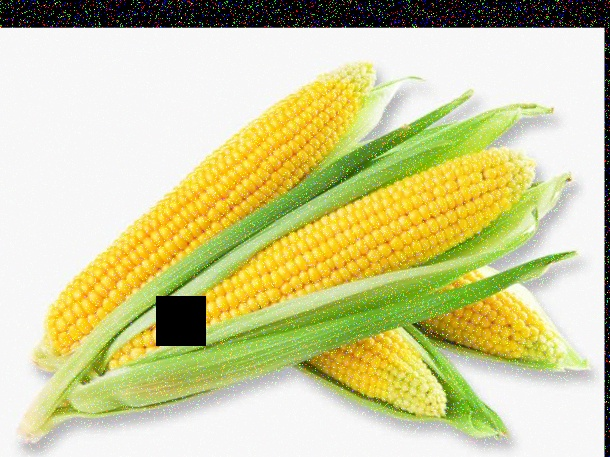corn: (37, 64, 376, 359), (106, 144, 532, 371)
